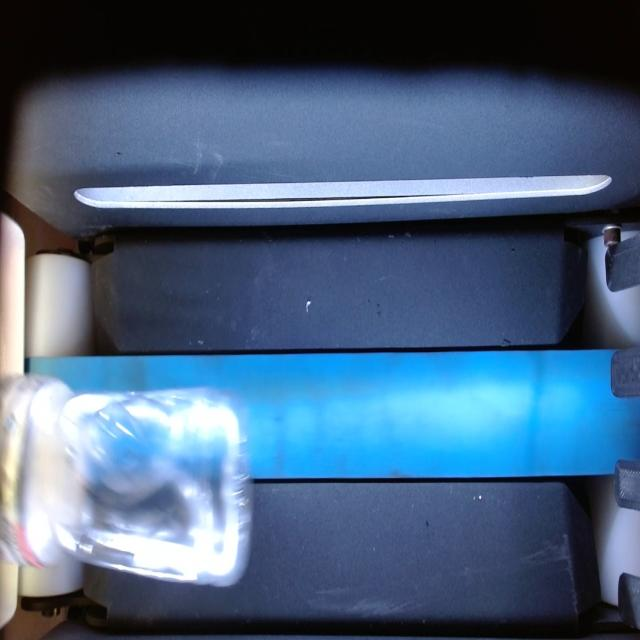bottom: (61, 389, 251, 584)
label: (0, 376, 38, 564)
